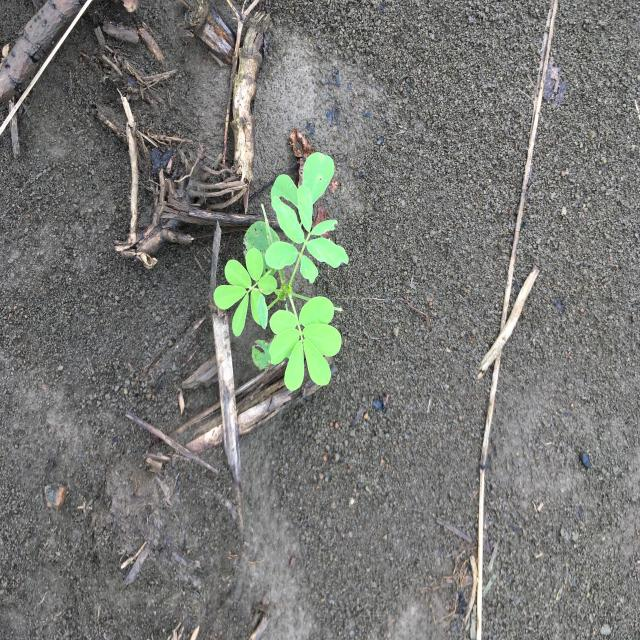Sicklepod: (213, 152, 349, 391)
